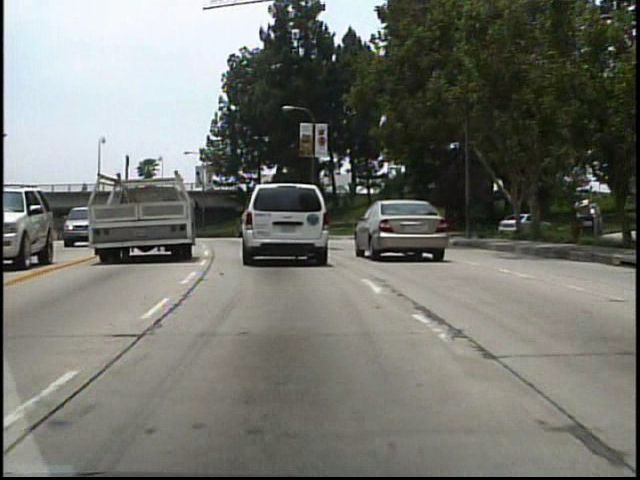person: (79, 178, 90, 198)
